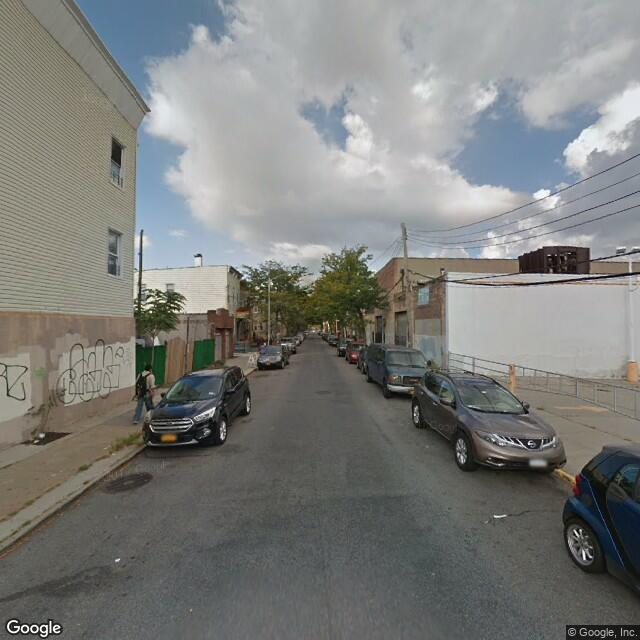litter: (483, 507, 518, 524), (24, 431, 51, 444), (106, 555, 132, 565), (35, 429, 59, 437)
